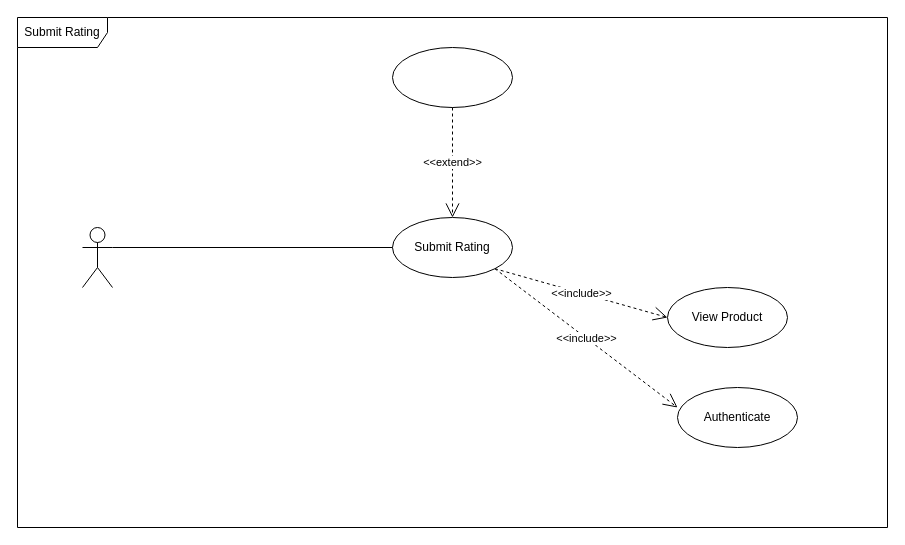
The diagram is 905 pixels wide and 545 high, and some of its shapes have lost their labels. Here are the shapes that lost their labels. From the top down, the box of each, then its label:
(392, 46, 512, 108): Write Comment
(82, 226, 112, 288): Customer
